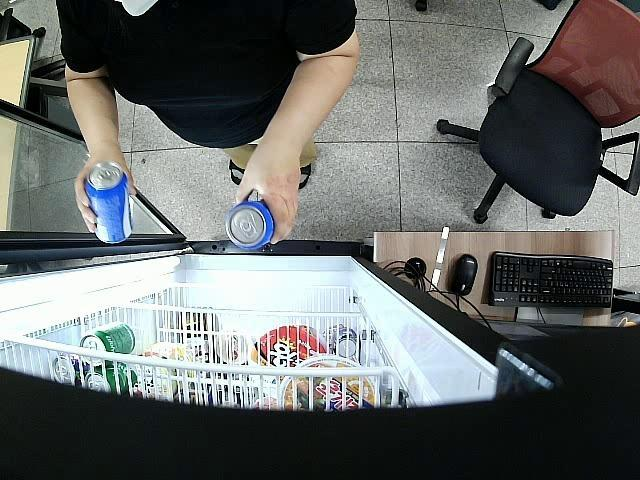13_pocariSweat: (84, 164, 136, 243), (227, 202, 274, 252)
